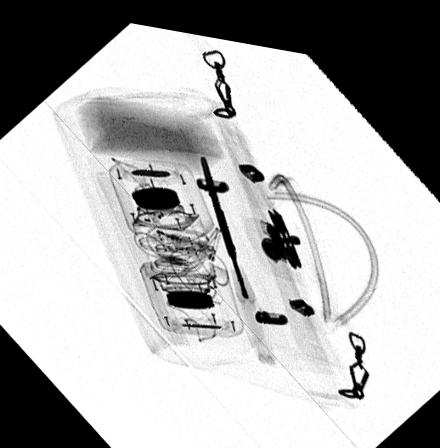Scissors: (198, 146, 276, 355)
